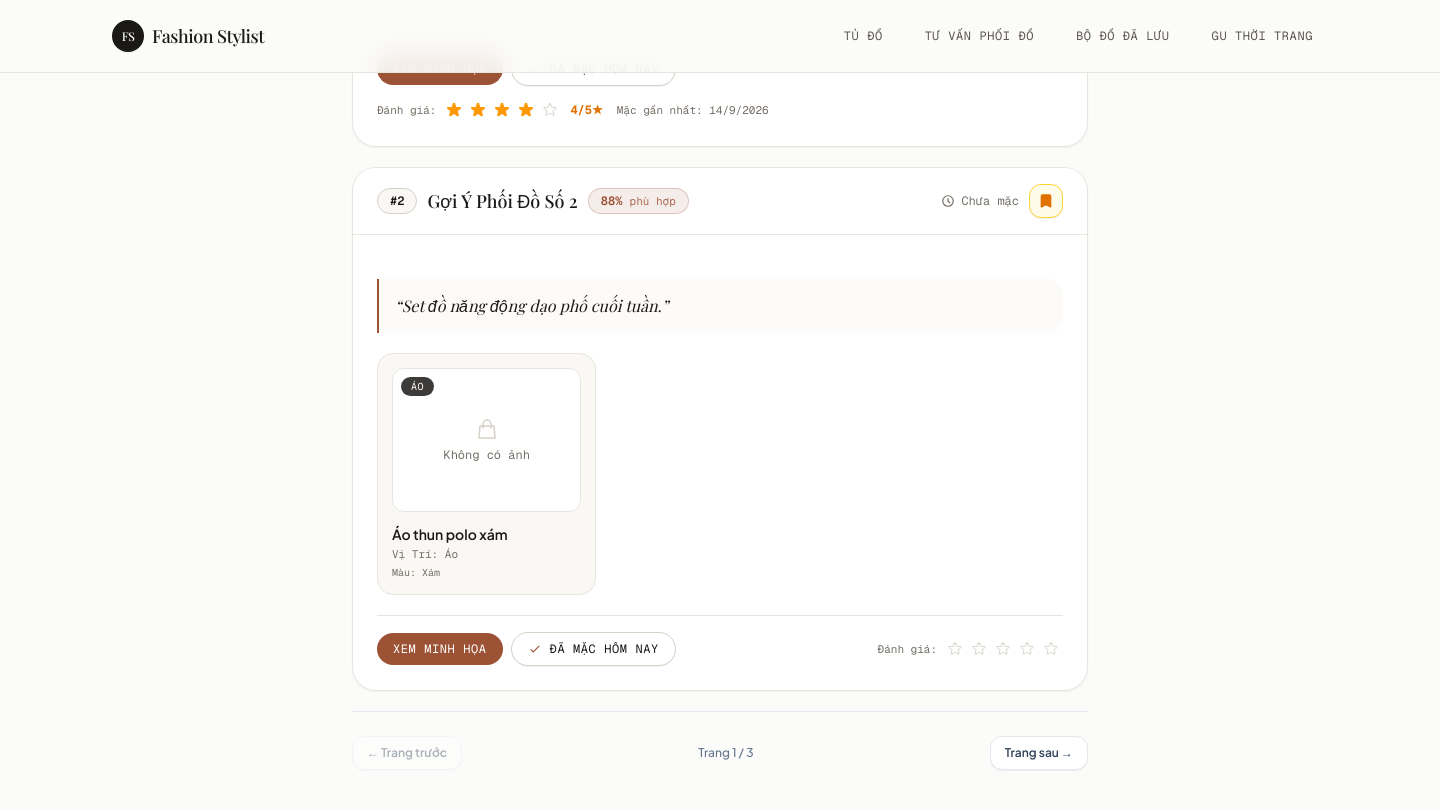
Test: SavedOutfitsPage Integration › renders saved outfits list and allows pagination to page 2
(page scrolled)
Expected: the text "“Set đồ năng động dạo phố cuối tuần.”" is shown, left=377, top=279, right=1063, bottom=333
Expected: the text "Trang 1 / 3" is shown, left=698, top=745, right=754, bottom=761
Click the button "Trang sau →".
click(1039, 753)  # box left=990, top=736, right=1088, bottom=770
(page scrolled)
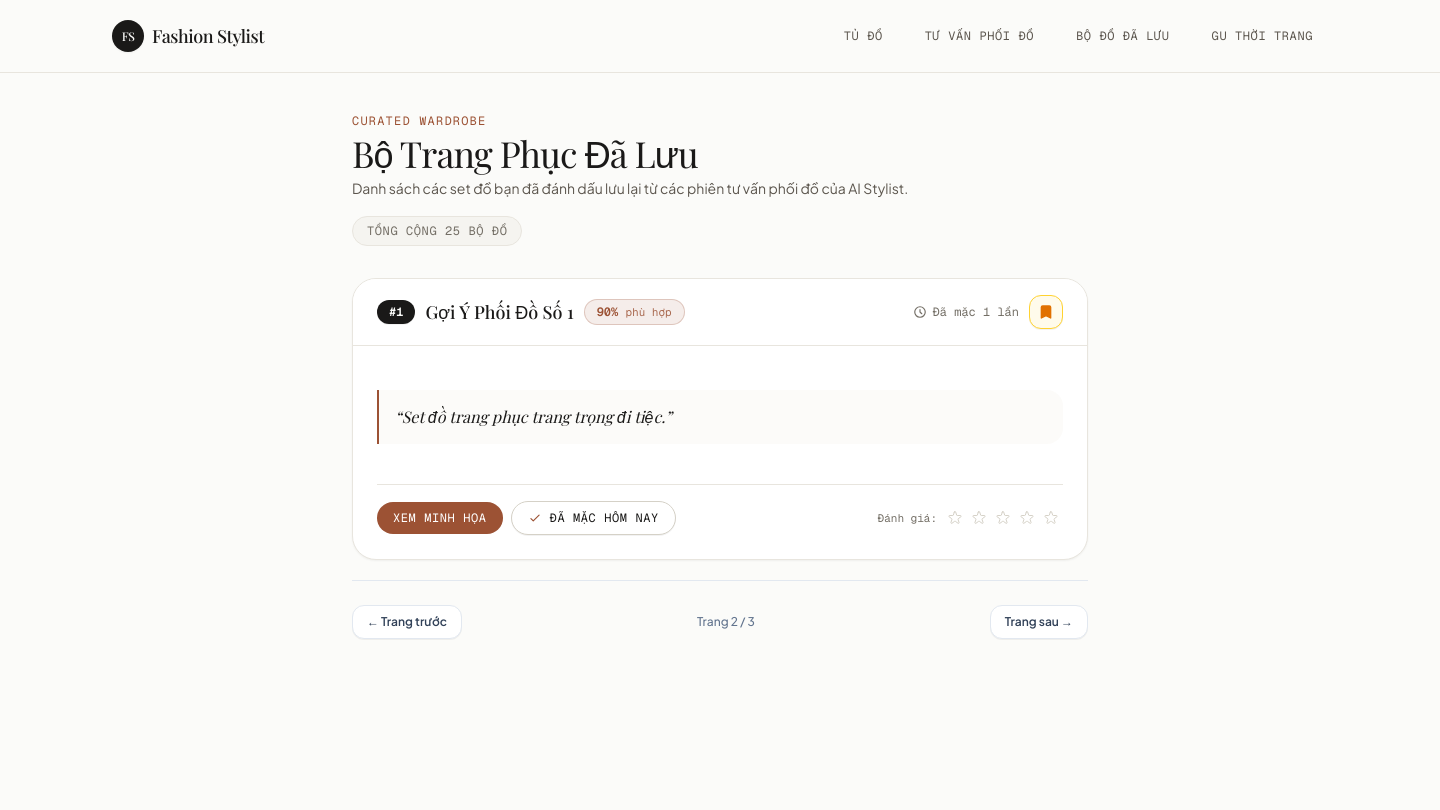
Expected: the text "“Set đồ trang phục trang trọng đi tiệc.”" is shown, left=377, top=390, right=1063, bottom=444
